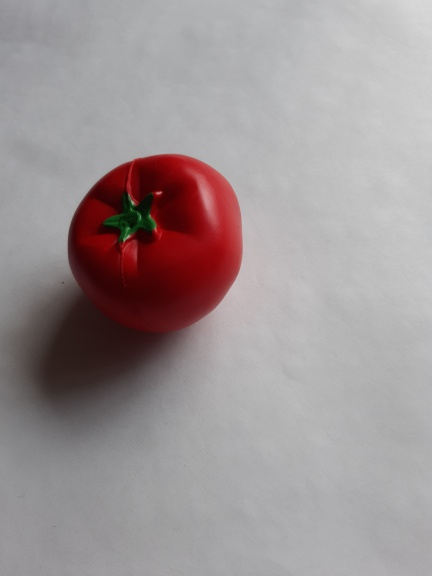tomato: (59, 146, 251, 342)
